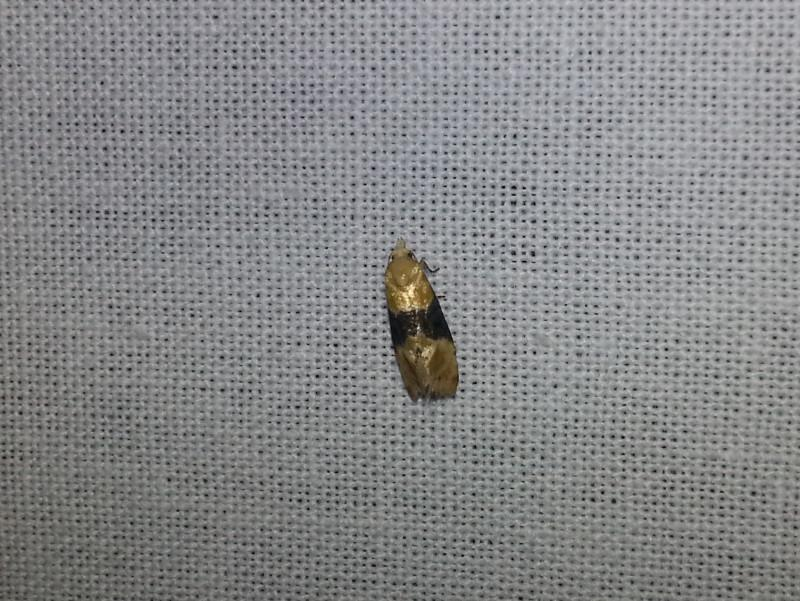Eupoecilia Ambiguella: (381, 235, 461, 404)
